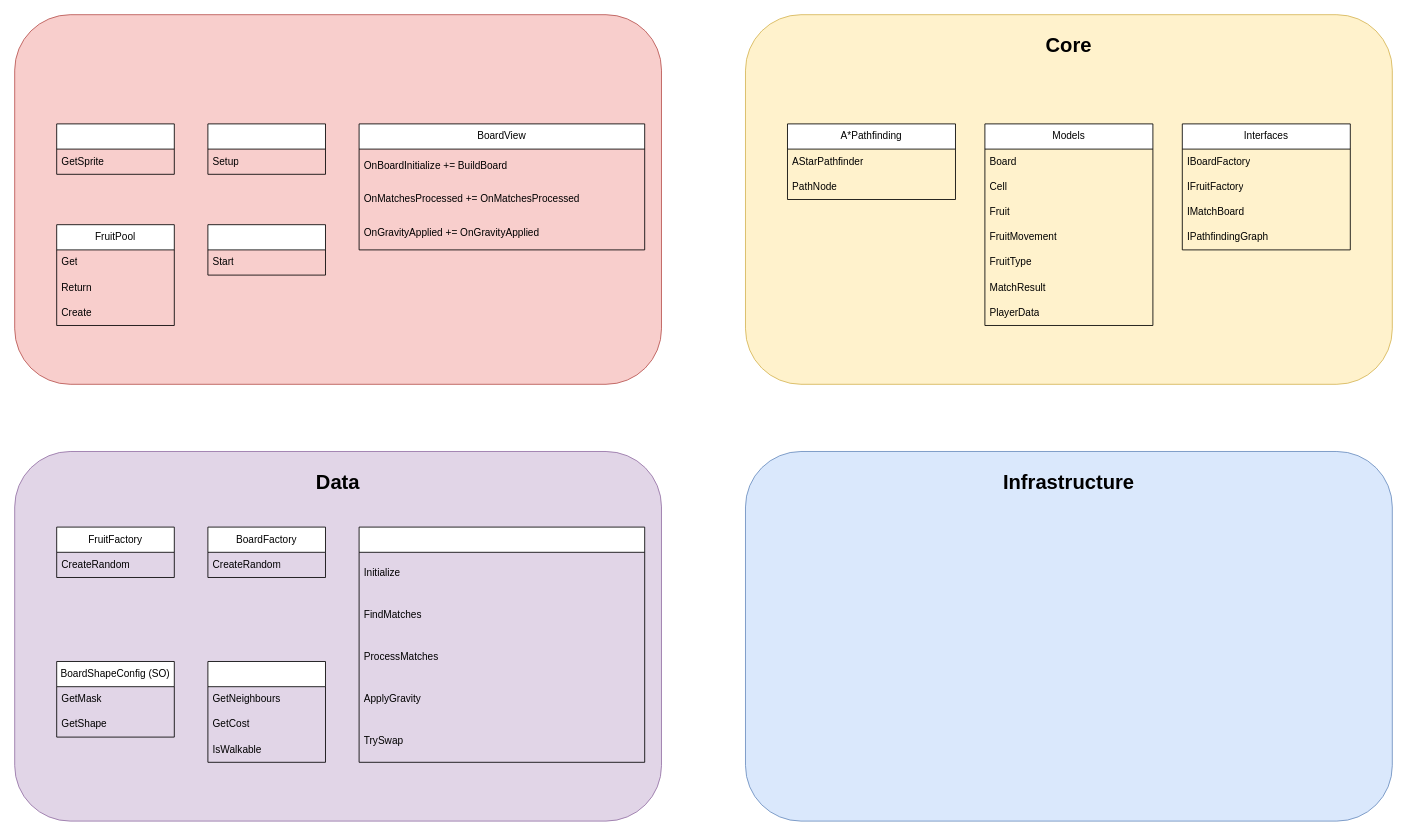
Image size: 1407x836. Some labels were removed from this diagram. Here are the shapes that lost their labels. From the top down, the box of each, then its label:
(56, 123, 174, 174): FruitConfig(SO)
(207, 123, 326, 174): FruitView
(14, 14, 662, 384): Presentation
(207, 224, 326, 275): GameEntryPoint
(358, 526, 645, 762): MatchBoard
(207, 661, 326, 762): BoardGraph
